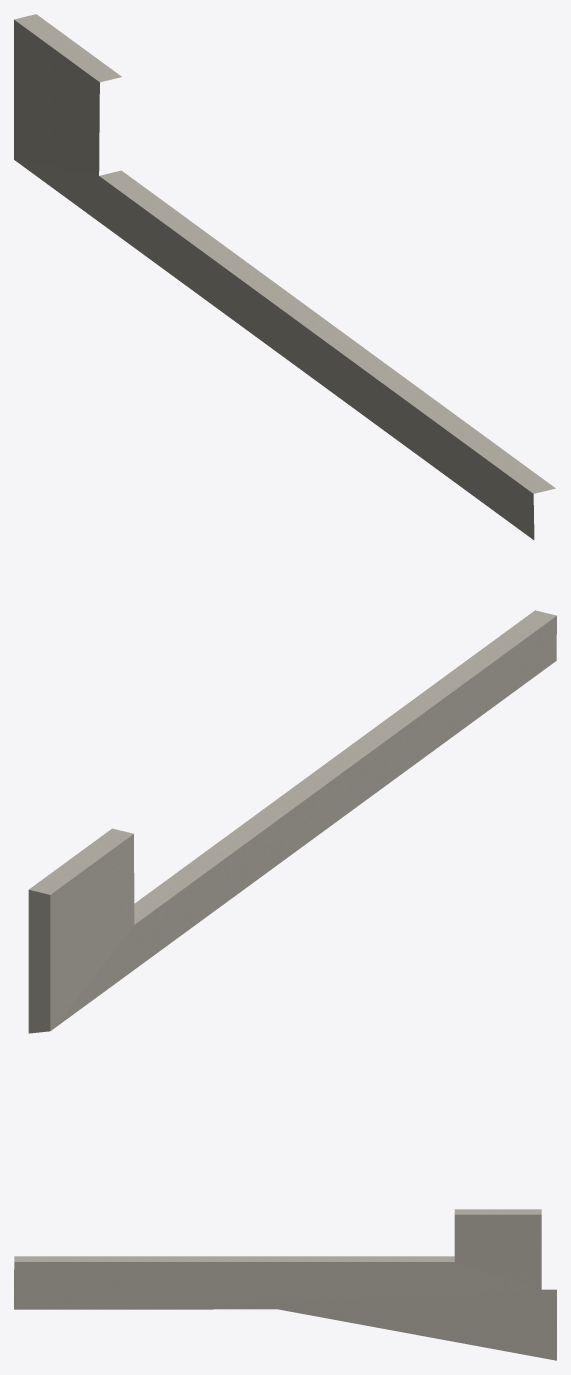
File: kd_stage_135fe0_5_73.glb
3 renders of one model, top to bottom at view 1: azimuth 30°, elevation 25°; view 2: azimuth 150°, elevation 25°; view 3: azimuth 270°, elevation 25°, orthographic. The views are drawn at different scales.
Visible parts, largest first — view 1: kd_stage_135fe0_5_73; view 2: kd_stage_135fe0_5_73; view 3: kd_stage_135fe0_5_73.
Boxes of the visible parts, box(x1,y1,x2,y2) form: kd_stage_135fe0_5_73: box(14, 14, 555, 539); kd_stage_135fe0_5_73: box(28, 610, 556, 1033); kd_stage_135fe0_5_73: box(14, 1209, 556, 1360).
Bounding box in the file's own units: 0.1556 × 1.85 × 6.23.
1 material, 1 textured.
